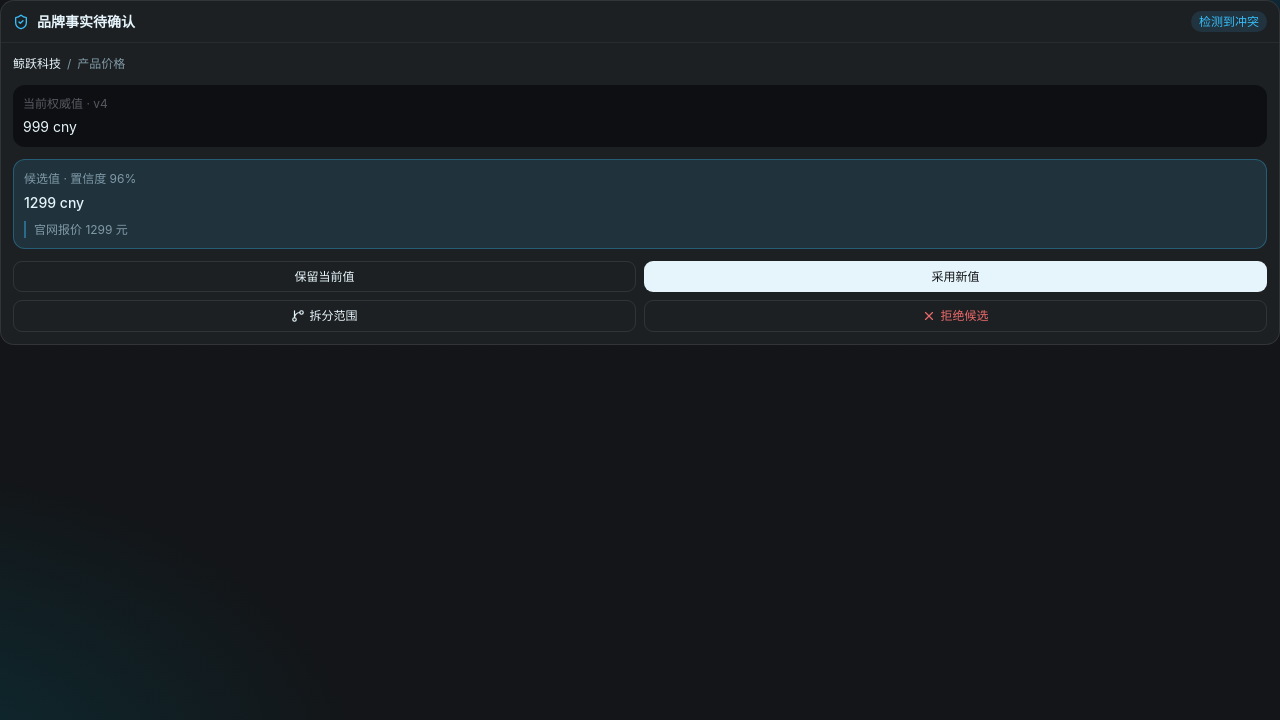
Scenario: KnowledgeConflictCard › shows all four decisions and submits a structured action without a chat message
Expected: the button "保留当前值" is shown, [13, 261, 636, 292]
Expected: the button "拆分范围" is shown, [13, 300, 636, 332]
Click the button "采用新值".
click(956, 277)  # box [644, 261, 1267, 292]
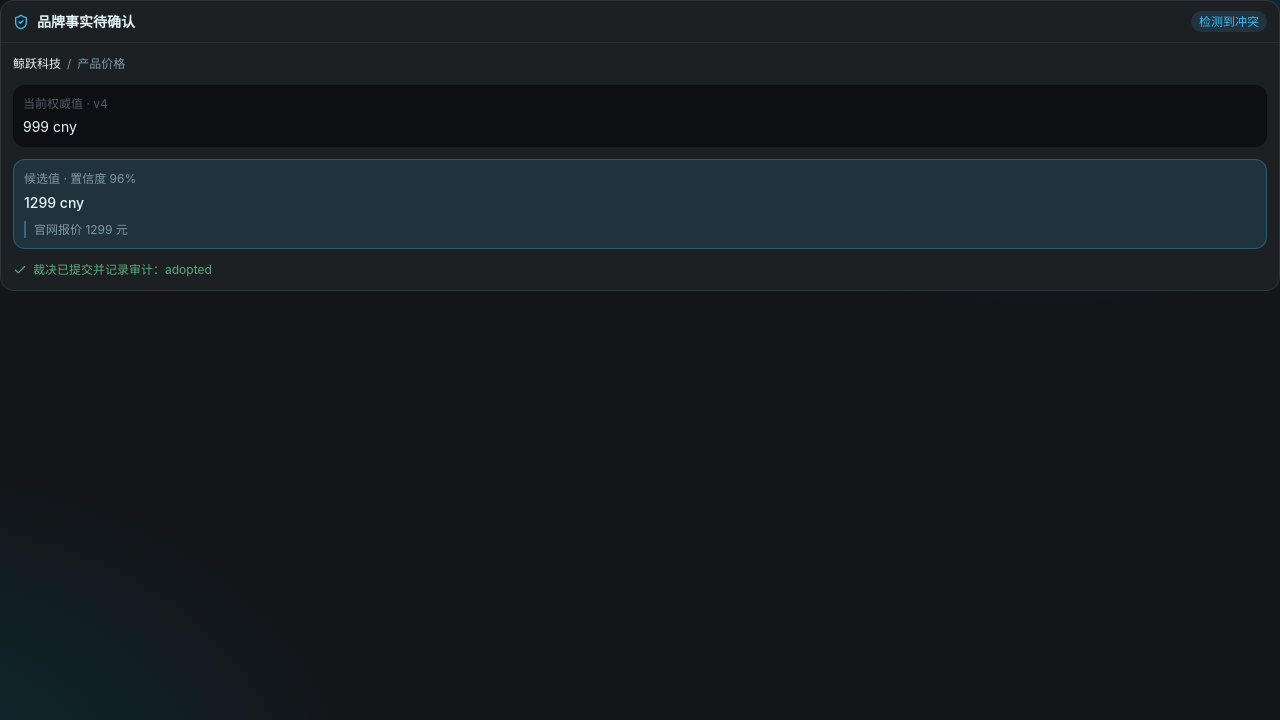
Now the text "裁决已提交并记录审计：adopted" is shown, box [13, 262, 212, 277]
